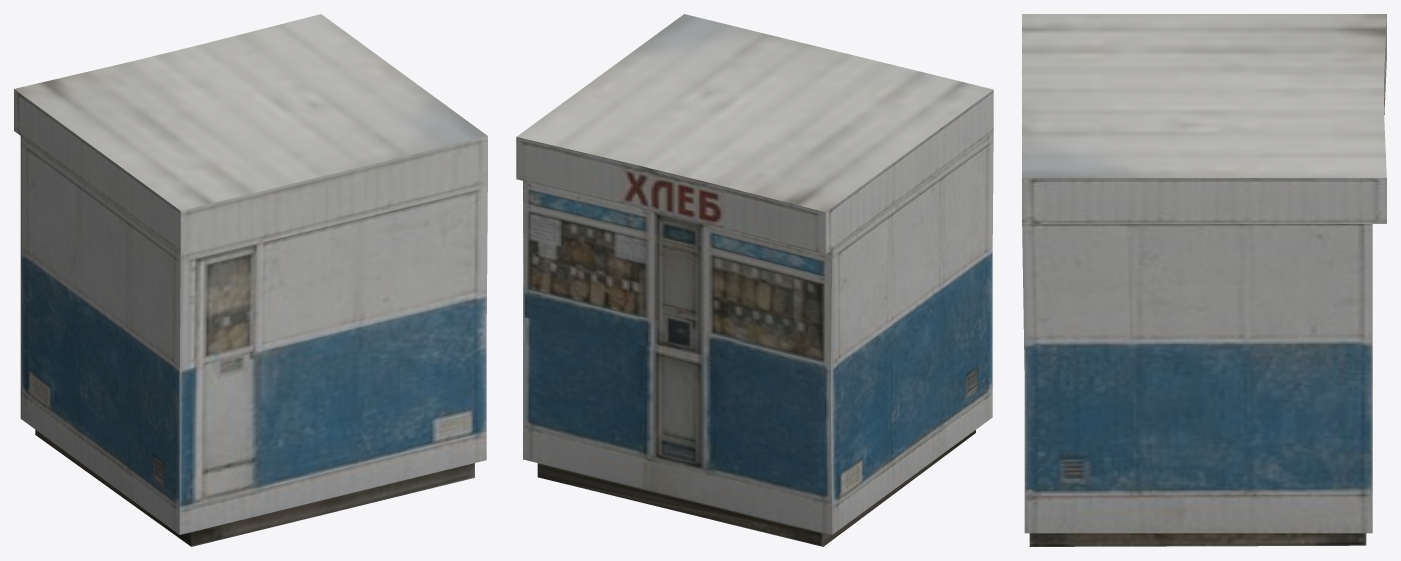
Rendered from kiosk_blue.glb.
3 views of the same model, side by side, from view 1: azimuth 30°, elevation 25°; view 2: azimuth 150°, elevation 25°; view 3: azimuth 270°, elevation 25° (orthographic). The views are drawn at different scales.
Visible parts, largest first — view 1: kiosk_blue; view 2: kiosk_blue; view 3: kiosk_blue.
Part boxes in pixels (box(x1,y1,x2,y2)): kiosk_blue: box(14, 14, 487, 546); kiosk_blue: box(516, 14, 993, 546); kiosk_blue: box(1022, 14, 1386, 546).
Size of the model in its own units: 2.53 by 2.7 by 2.38.
1 material, 1 textured.
